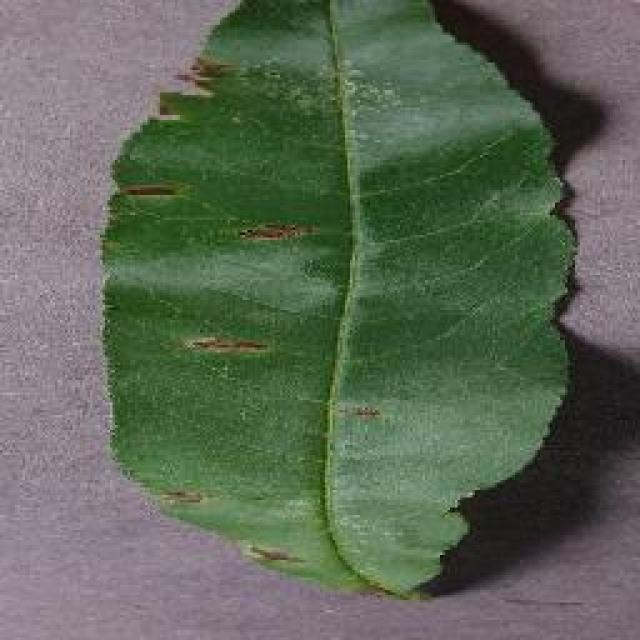Peach_Bacterial_Spot: (143, 75, 427, 518)
